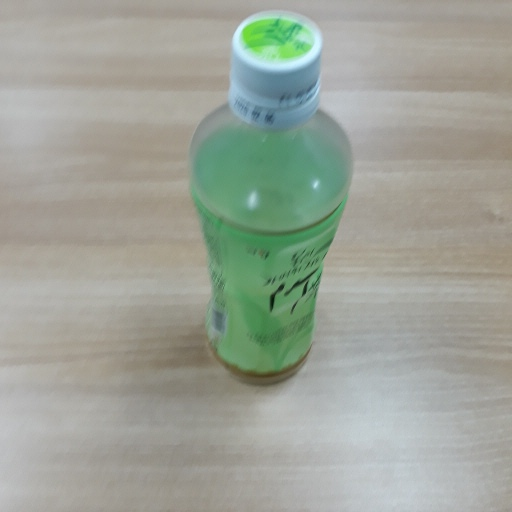Plastic_0: (191, 10, 355, 388)
